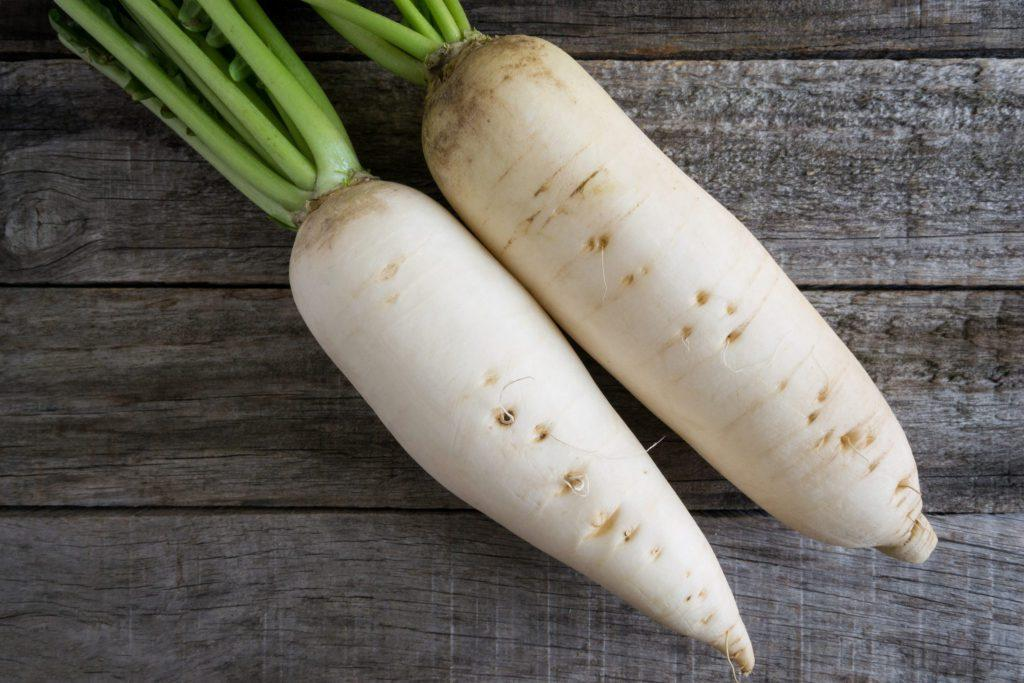radish: (451, 188, 1024, 683), (599, 35, 1024, 600)
